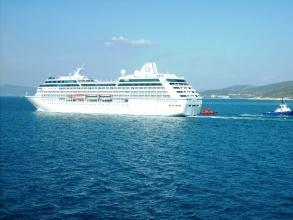otherboat: (262, 99, 293, 120)
youlun: (24, 59, 205, 115)
